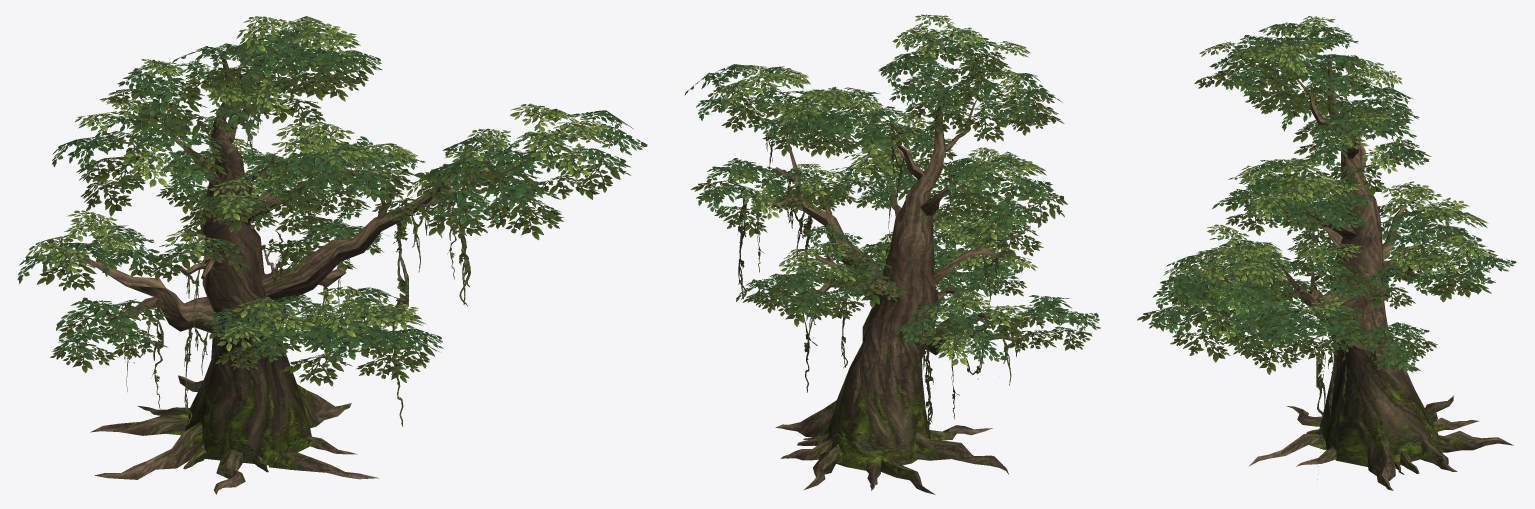
The model's file is 3004_Item_shu_4.FBX.
3 views of the same model, side by side, from view 1: azimuth 30°, elevation 25°; view 2: azimuth 150°, elevation 25°; view 3: azimuth 270°, elevation 25° (orthographic). The views are drawn at different scales.
Visible parts, largest first — view 1: 3004_Item_shu_4; view 2: 3004_Item_shu_4; view 3: 3004_Item_shu_4.
Part boxes in pixels (left/top/right/bottom): 3004_Item_shu_4: left=17, top=16, right=647, bottom=494; 3004_Item_shu_4: left=684, top=14, right=1100, bottom=494; 3004_Item_shu_4: left=1137, top=16, right=1516, bottom=490.
Bounding box in the file's own units: 907 × 747 × 660.
